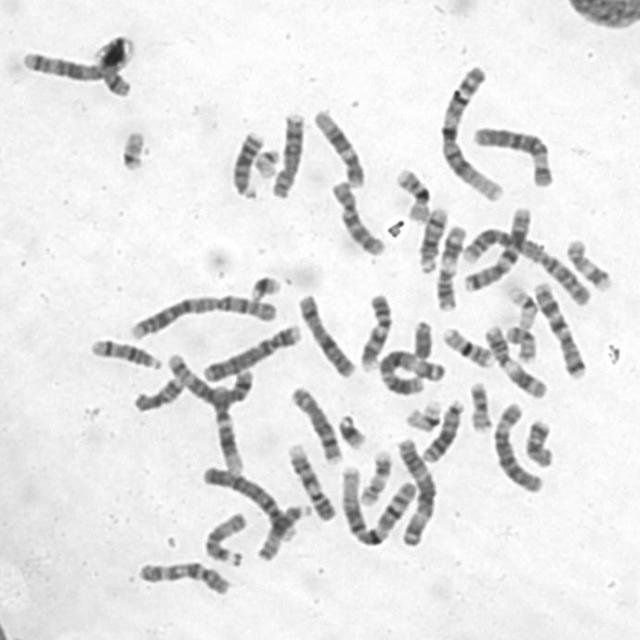A1: (436, 60, 506, 203), (334, 460, 418, 548)
A2: (458, 222, 593, 306), (124, 288, 280, 340)
A3: (392, 432, 439, 548), (374, 344, 449, 396)
B4: (198, 460, 301, 542), (200, 319, 304, 384)
B5: (19, 32, 134, 82), (162, 348, 257, 408)
C10: (326, 175, 388, 257), (134, 555, 234, 598)
C11: (481, 319, 552, 401), (433, 221, 468, 312)
C12: (310, 103, 368, 189), (207, 378, 246, 474)
C6: (467, 120, 555, 188), (490, 396, 546, 494)
C7: (460, 202, 534, 293), (528, 277, 589, 380)
C8: (286, 382, 344, 464), (266, 106, 308, 200)
C9: (284, 438, 339, 522), (355, 288, 394, 372)
D13: (418, 396, 467, 464), (228, 125, 266, 200)
D14: (86, 332, 164, 372), (415, 202, 451, 274)
D15: (253, 499, 314, 563), (199, 507, 249, 567)
E16: (438, 321, 497, 369), (391, 162, 434, 224)
E17: (563, 234, 616, 294), (356, 445, 395, 507)
E18: (129, 371, 187, 414), (521, 414, 557, 469)
F19: (501, 278, 538, 331), (401, 395, 444, 433)
F20: (465, 376, 495, 434), (502, 320, 538, 364)
G21: (333, 408, 369, 451), (245, 268, 285, 302)
G22: (115, 123, 149, 173), (250, 143, 282, 179)
X: (294, 289, 359, 379)
Y: (408, 314, 436, 361)
